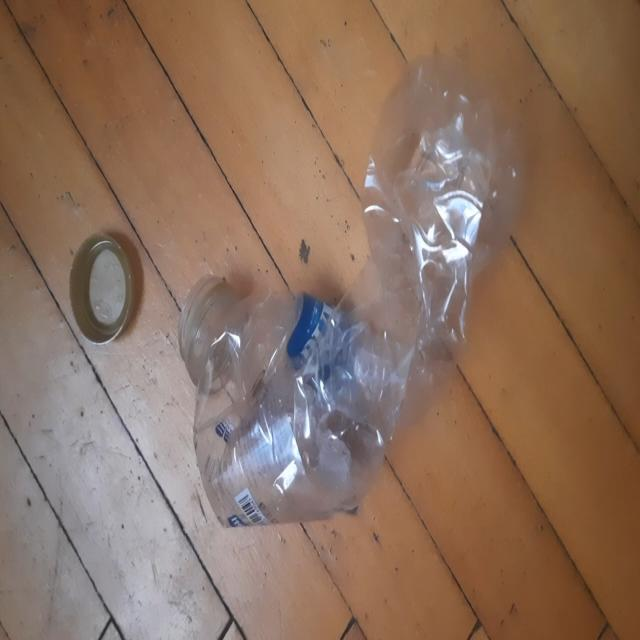Plastic: (185, 53, 519, 529)
